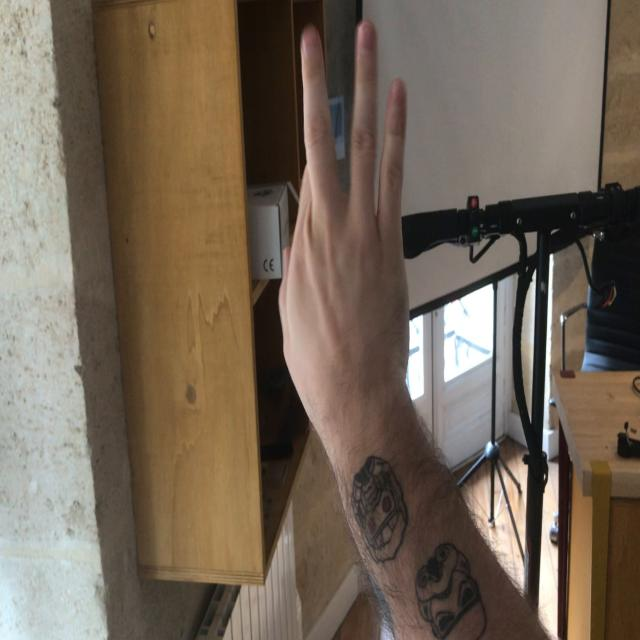hand: (276, 20, 411, 409)
